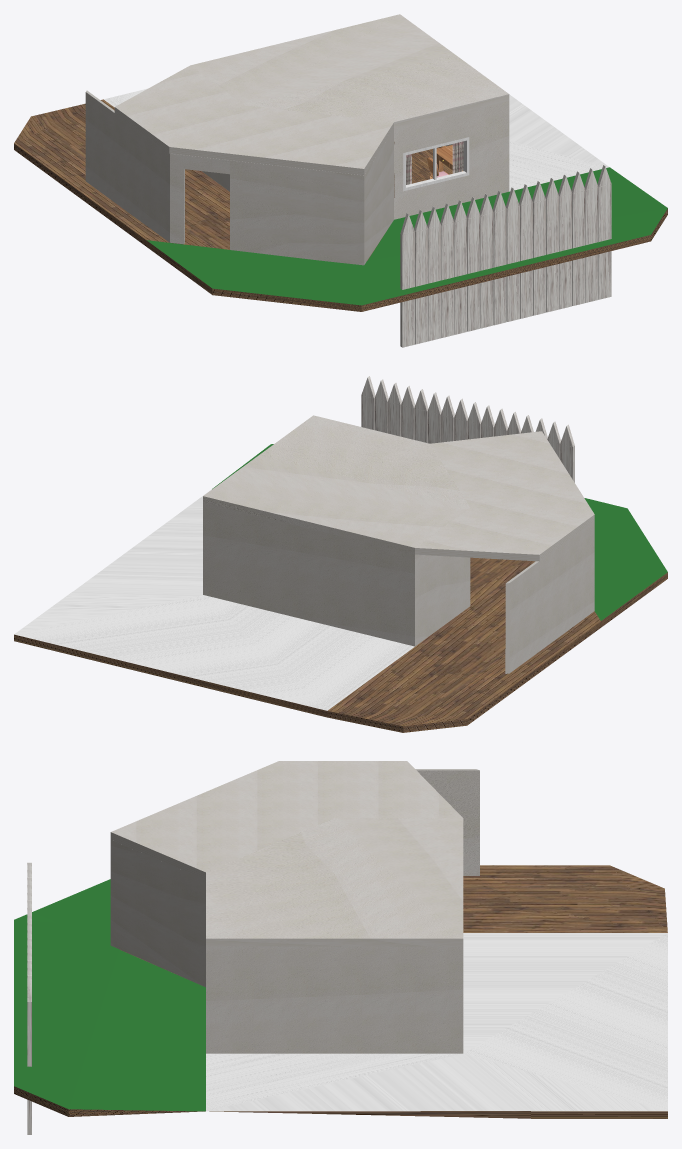
File: kannsei.fbx
3 renders of one model, top to bottom at view 1: azimuth 30°, elevation 25°; view 2: azimuth 150°, elevation 25°; view 3: azimuth 270°, elevation 25°, orthographic. The views are drawn at different scales.
Visible parts, largest first — view 1: 部屋.001, 屋根.001, Cube.001, 立方体.012; view 2: 部屋.001, 屋根.001, Cube.001; view 3: 部屋.001, 屋根.001, Cube.001.
Part boxes in pixels (x1,y1,x2,y2): 部屋.001: (14, 88, 667, 311); 屋根.001: (114, 14, 509, 175); Cube.001: (400, 165, 611, 347); 立方体.012: (403, 137, 469, 191); 部屋.001: (14, 444, 667, 732); 屋根.001: (203, 415, 594, 561); Cube.001: (361, 376, 574, 482); 部屋.001: (14, 769, 667, 1118); 屋根.001: (110, 761, 463, 946); Cube.001: (27, 862, 31, 1134).
Size of the model in its own units: 6729 by 2328 by 7627.
76 materials, 70 textured.
